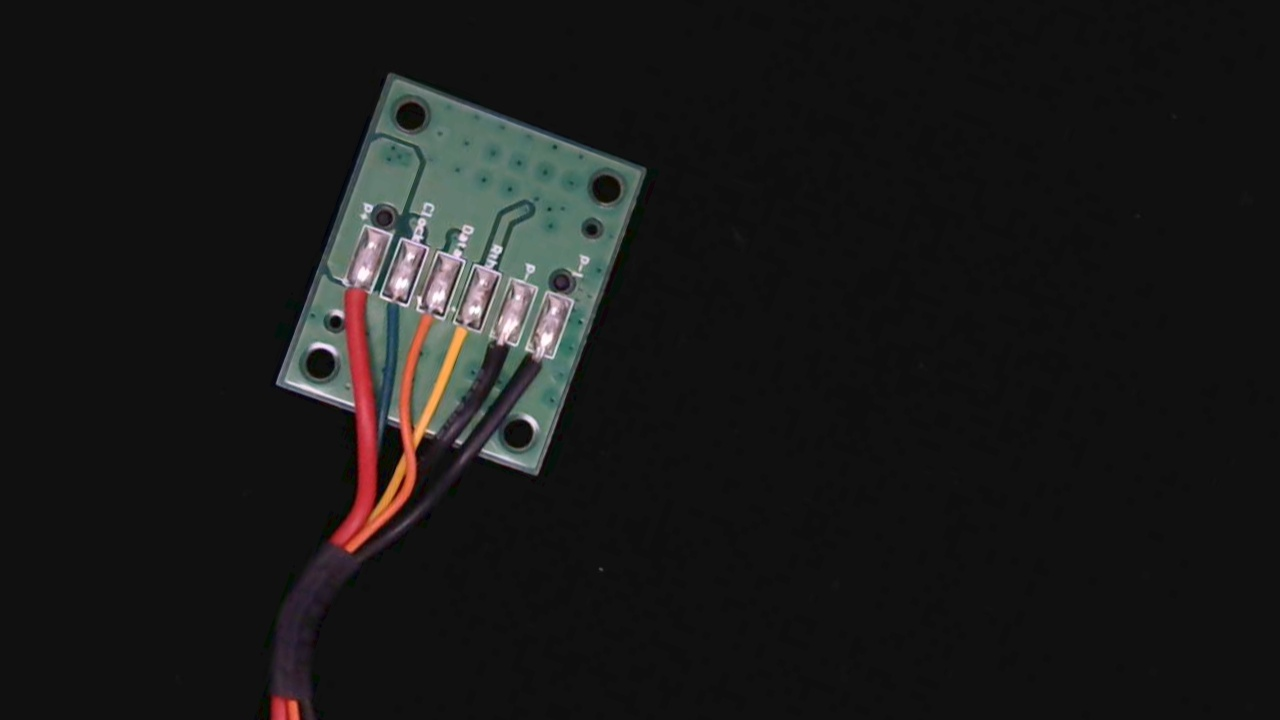Black: (467, 319, 522, 393)
Black1: (510, 334, 559, 402)
Green: (358, 276, 414, 354)
Orange: (395, 291, 450, 370)
Red: (322, 266, 378, 344)
Yellow: (435, 304, 486, 373)
